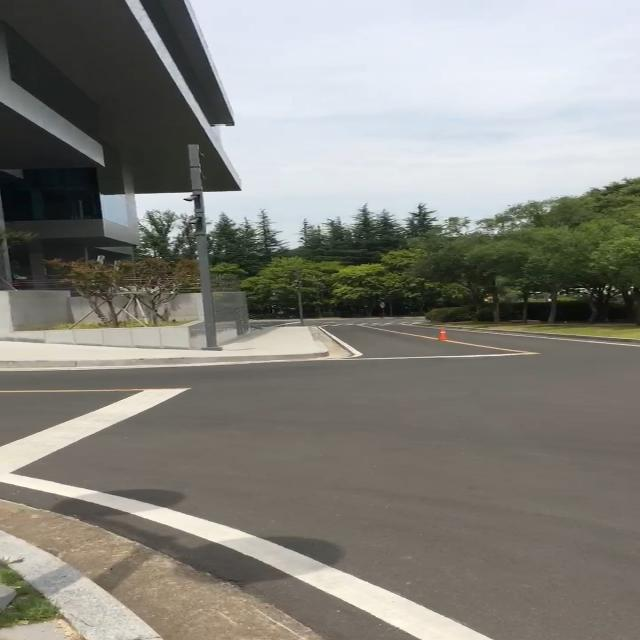obstacle: (435, 328, 452, 346)
road: (0, 319, 640, 640)
sidewalk: (0, 530, 164, 640), (0, 327, 328, 368)
